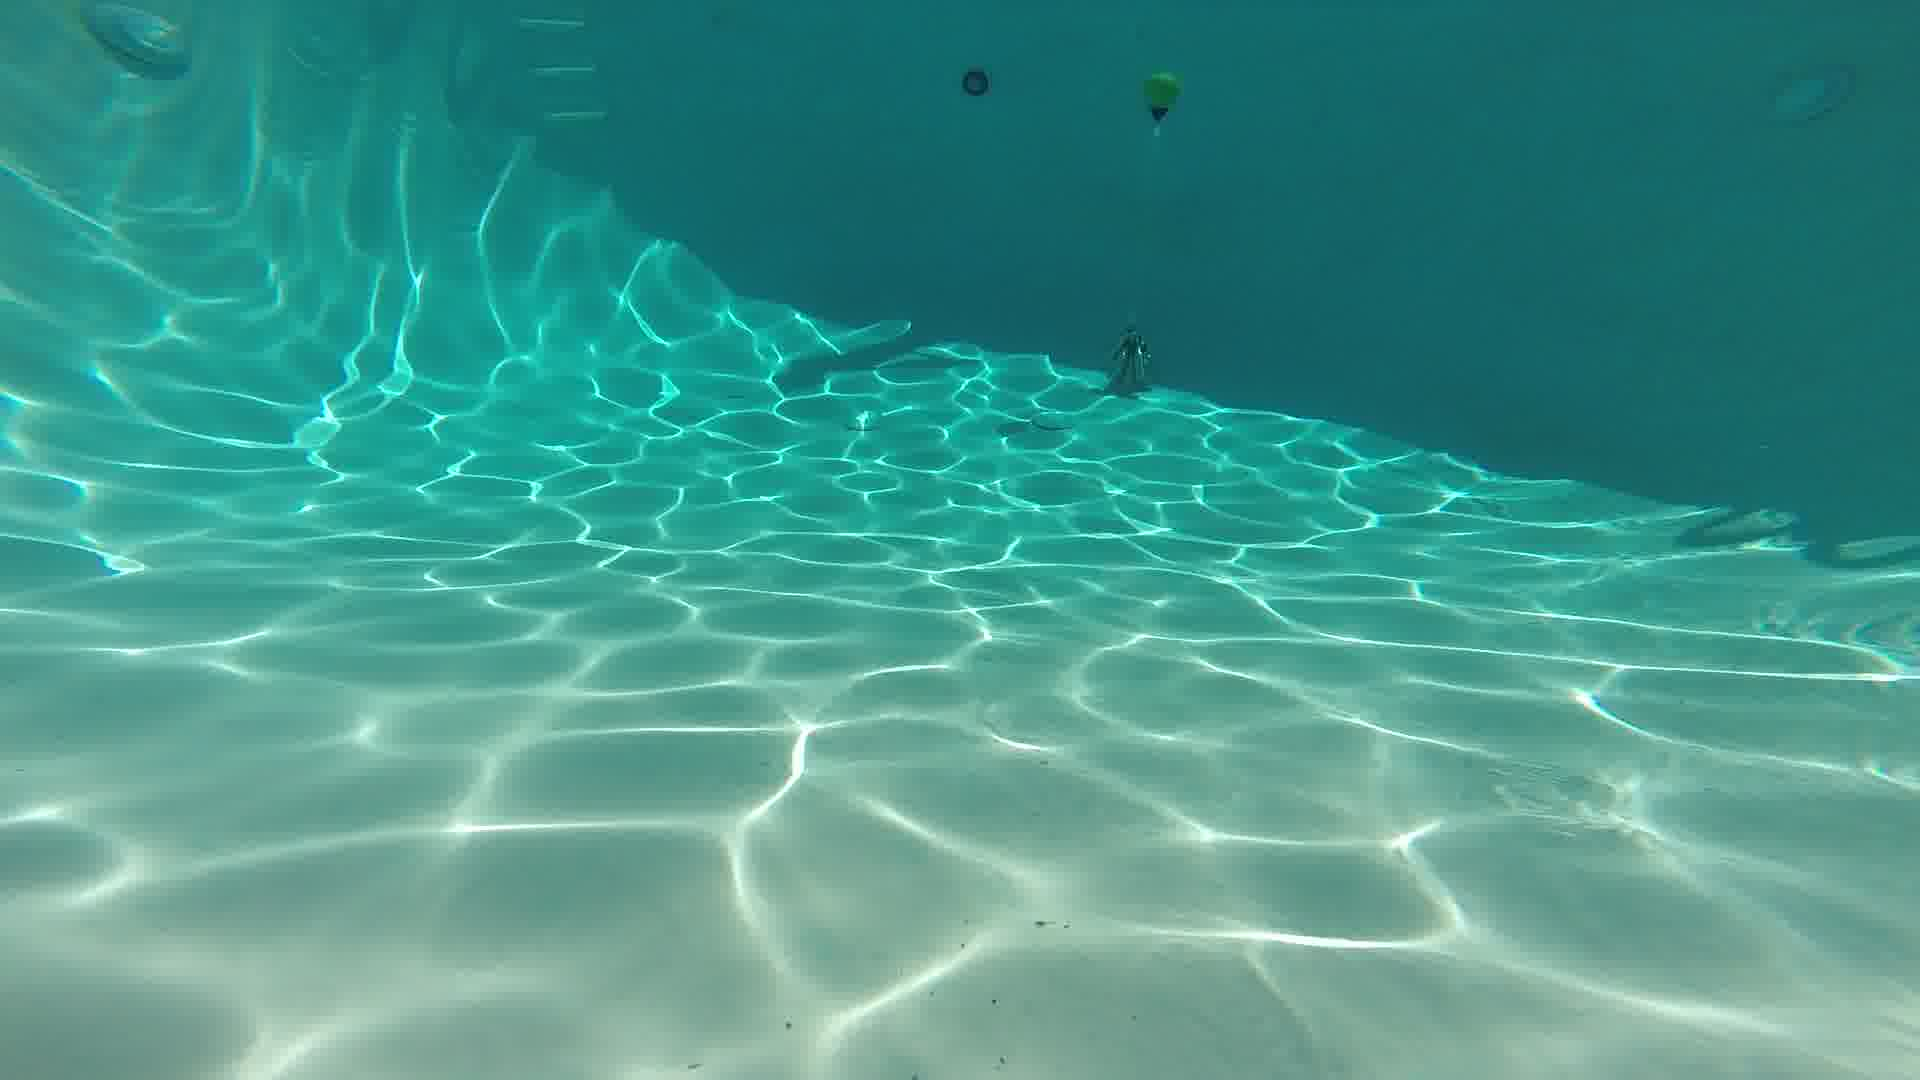yellow buoy: (1138, 67, 1183, 133)
